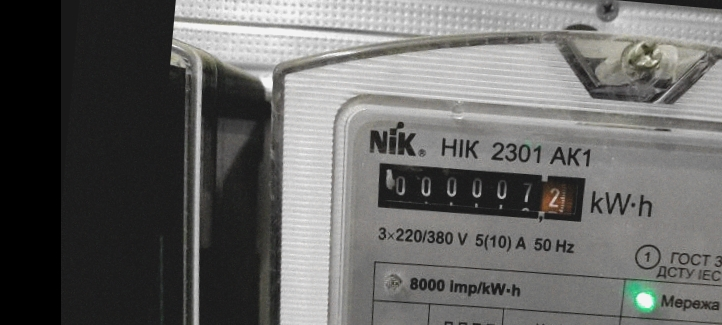0: (392, 172, 409, 197), (470, 175, 485, 199), (495, 176, 509, 201), (445, 174, 459, 198), (419, 174, 433, 197)
2: (547, 185, 562, 209)
7: (520, 179, 534, 204)
screen: (365, 148, 597, 234)
